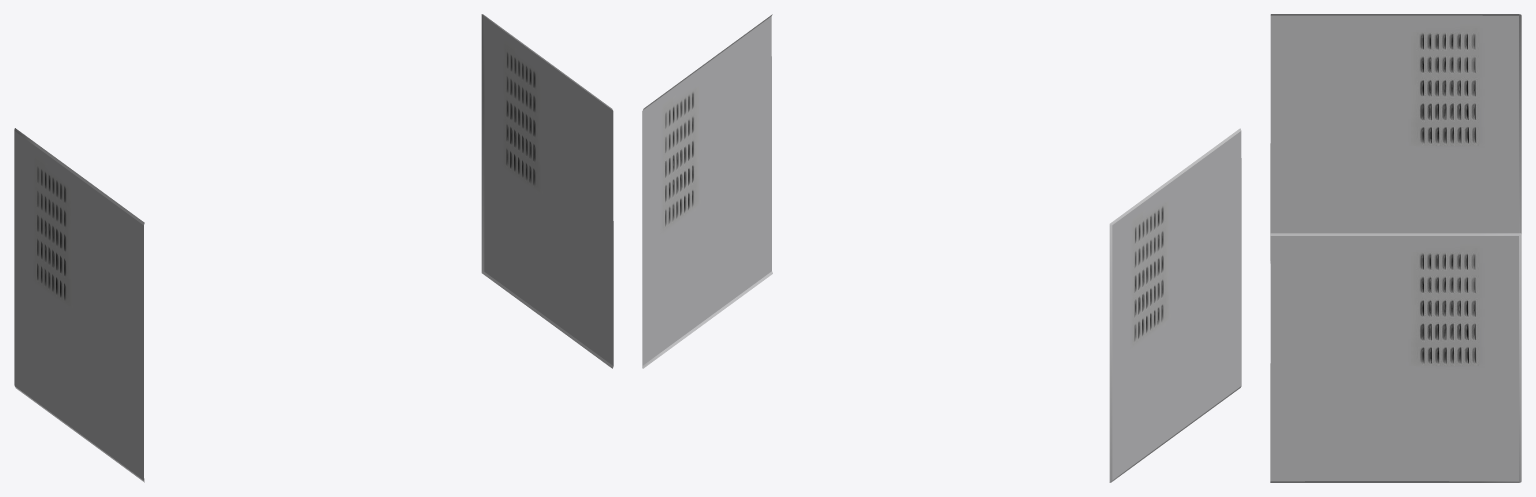
The model's file is microwave_left_group_main_model_8.obj.
3 views of the same model, side by side, from view 1: azimuth 30°, elevation 25°; view 2: azimuth 150°, elevation 25°; view 3: azimuth 270°, elevation 25° (orthographic). The views are drawn at different scales.
Bounding box in the file's own units: 0.7476 × 0.3956 × 0.3611.
1 material, 1 textured.
